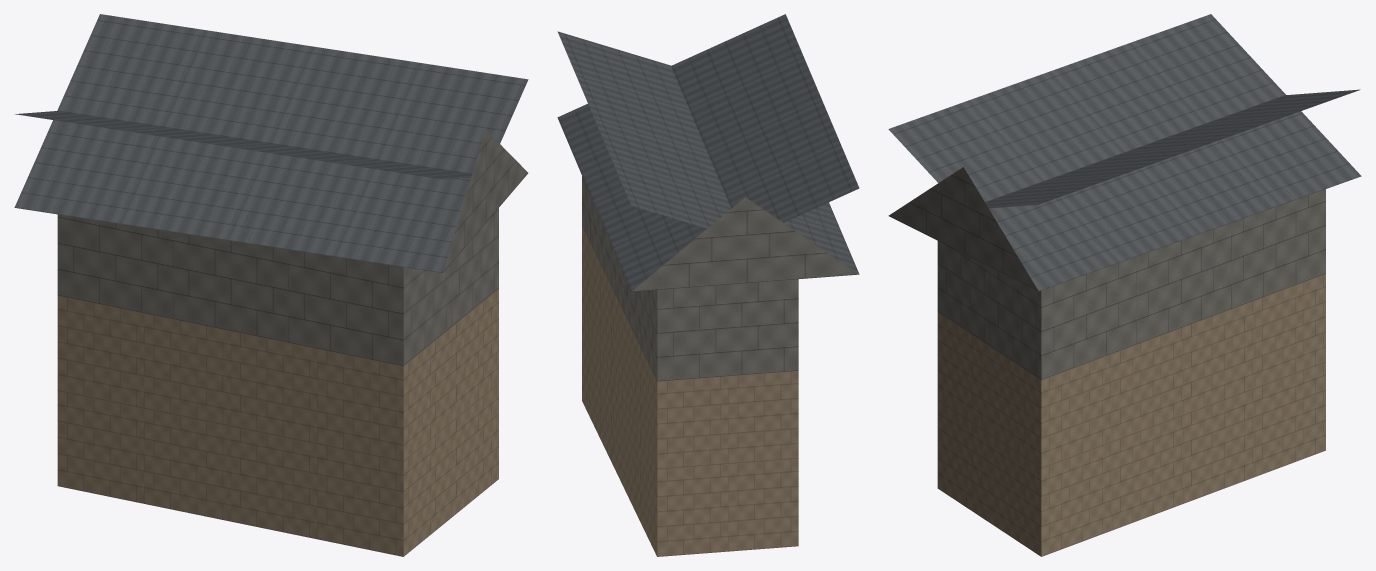
Rendered from bld_c31_-24_536.gltf.
3 views of the same model, side by side, from view 1: azimuth 30°, elevation 25°; view 2: azimuth 150°, elevation 25°; view 3: azimuth 270°, elevation 25° (orthographic). The views are drawn at different scales.
Visible parts, largest first — view 1: bld_c31_-24_536; view 2: bld_c31_-24_536; view 3: bld_c31_-24_536.
Part boxes in pixels (x1,y1,x2,y2): bld_c31_-24_536: [14, 14, 528, 556]; bld_c31_-24_536: [557, 14, 859, 556]; bld_c31_-24_536: [888, 14, 1361, 556].
Bounding box in the file's own units: 10.58 × 9.45 × 11.11.
Materials: 4 (4 with a texture image).
